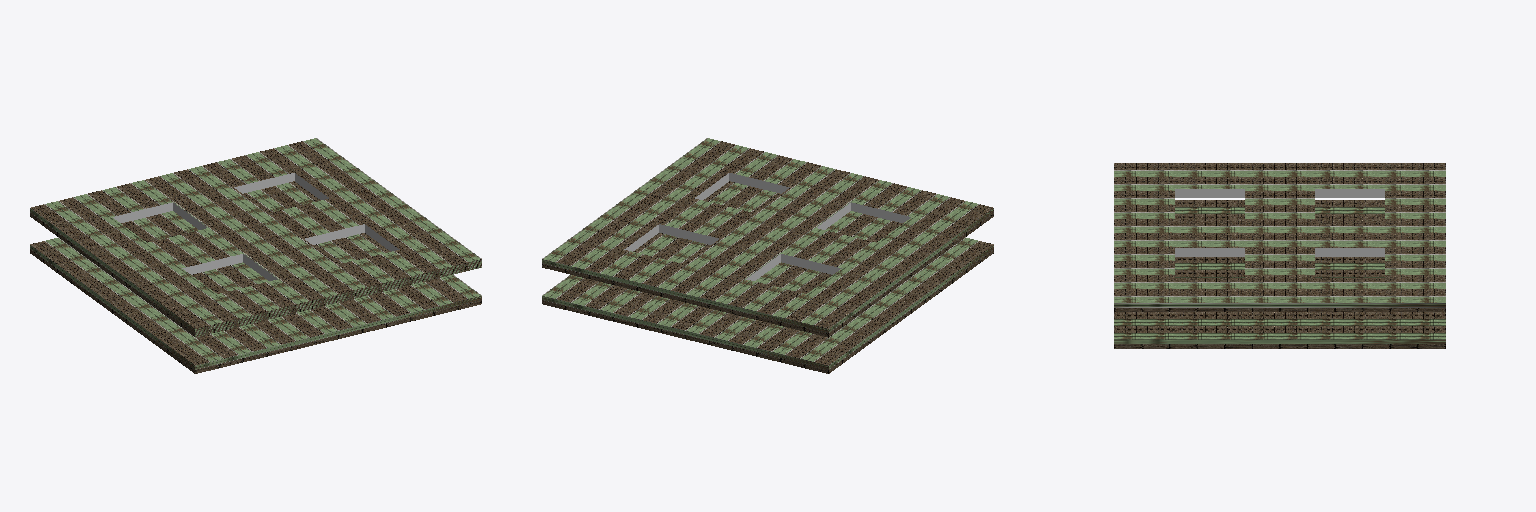
The picture shows the model from 3 angles: view 1: azimuth 30°, elevation 25°; view 2: azimuth 150°, elevation 25°; view 3: azimuth 270°, elevation 25°; orthographic projection.
Visible parts, largest first — view 1: Cube.001; view 2: Cube.001; view 3: Cube.001.
Part boxes in pixels (x1,y1,x2,y2): Cube.001: (30,138,481,373); Cube.001: (542,138,993,373); Cube.001: (1114,163,1445,348).
Size of the model in its own units: 19.61 by 2.95 by 19.61.
Materials: 2 (1 with a texture image).